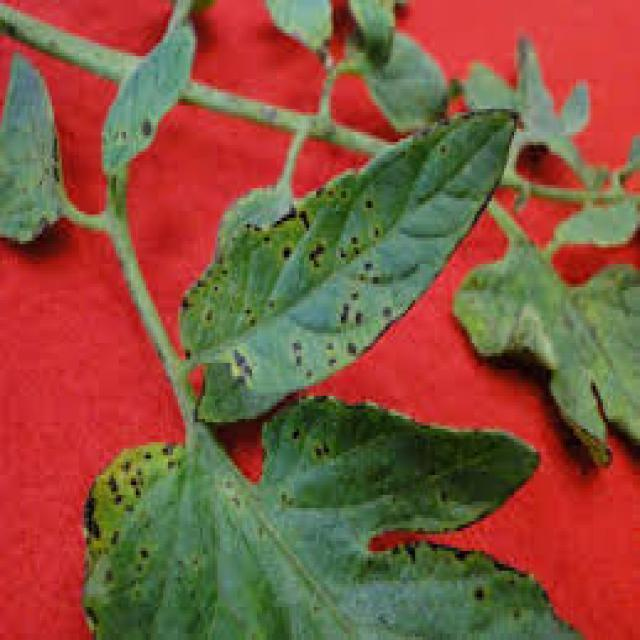Bacterial Spot: (164, 187, 434, 390), (68, 444, 194, 556)
